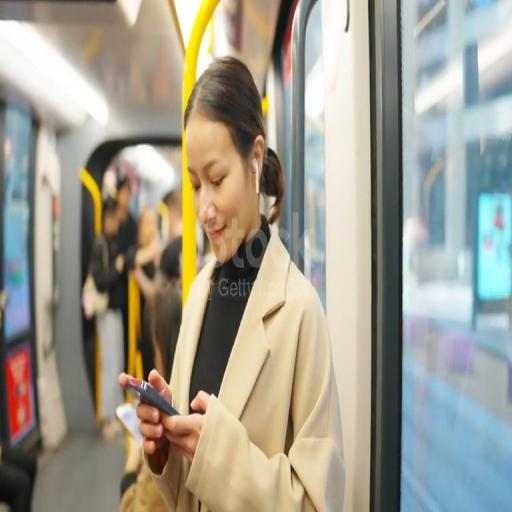earphone: (248, 156, 266, 198)
